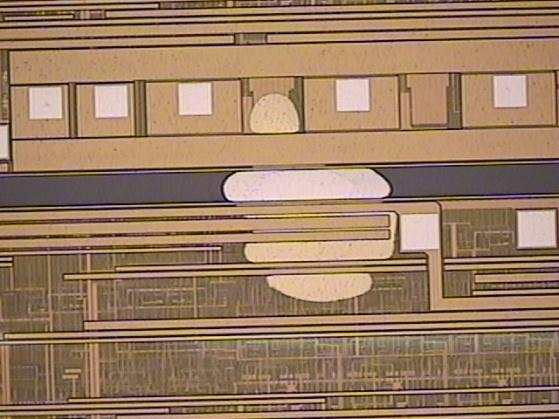BLOCK ETCH: (210, 83, 403, 313)
